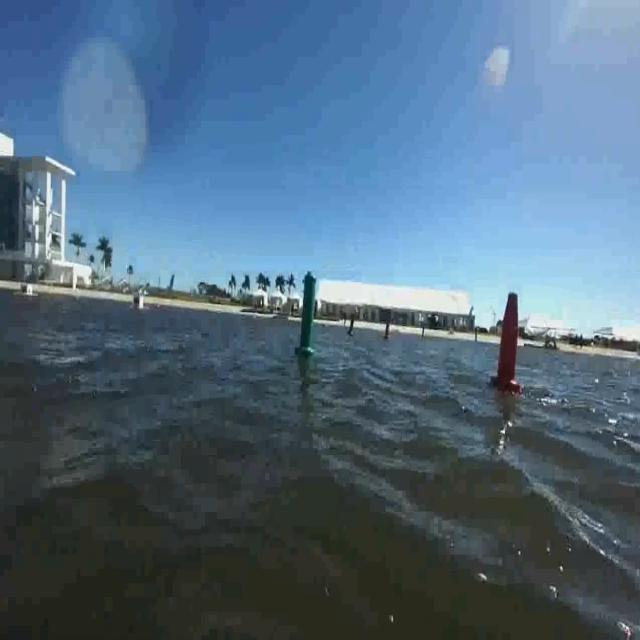green-column-buoy: (294, 270, 320, 356), (347, 311, 357, 336)
red-column-buoy: (493, 289, 523, 395), (383, 316, 393, 341)
